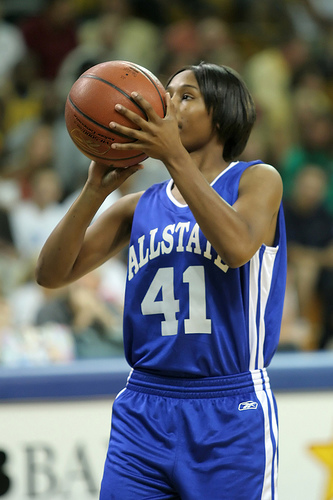basketball: (65, 60, 166, 166)
